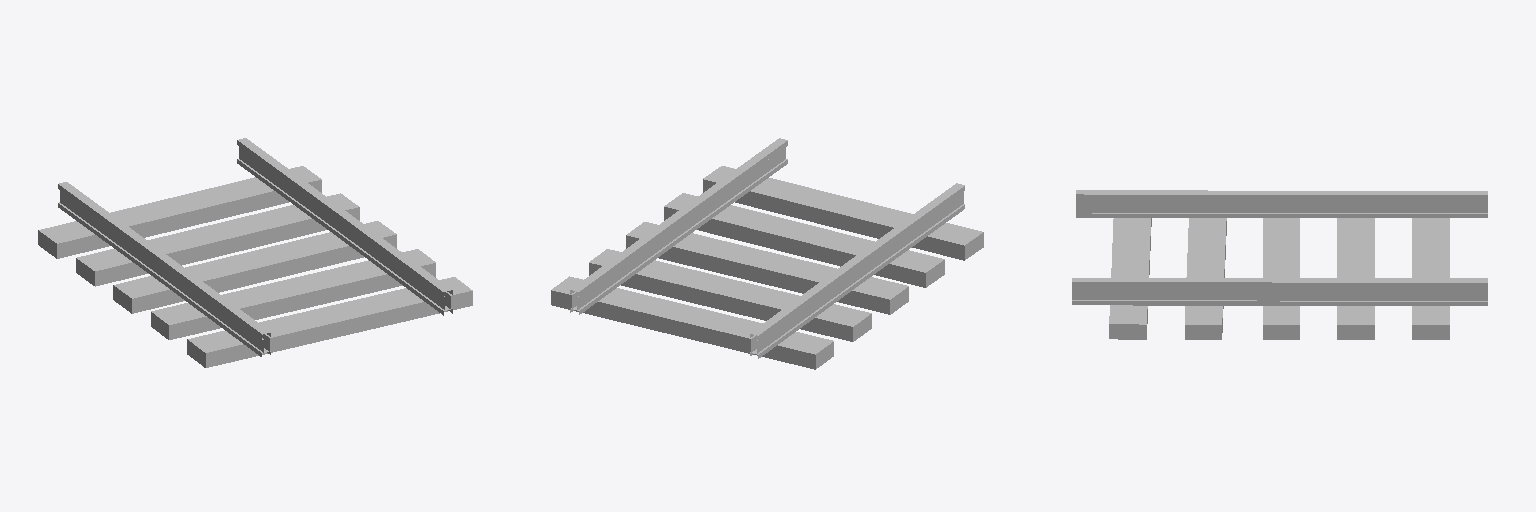
The model's file is trackCRight5D.obj.
3 renders of one model, left to right at view 1: azimuth 30°, elevation 25°; view 2: azimuth 150°, elevation 25°; view 3: azimuth 270°, elevation 25°, orthographic.
Visible parts, largest first — view 1: Cube.001; view 2: Cube.001; view 3: Cube.001.
Boxes of the visible parts, x1,y1,x2,y2 form: Cube.001: [38, 138, 472, 367]; Cube.001: [551, 138, 983, 369]; Cube.001: [1072, 190, 1487, 339].
Bounding box in the file's own units: 10.48 × 1.45 × 14.16.